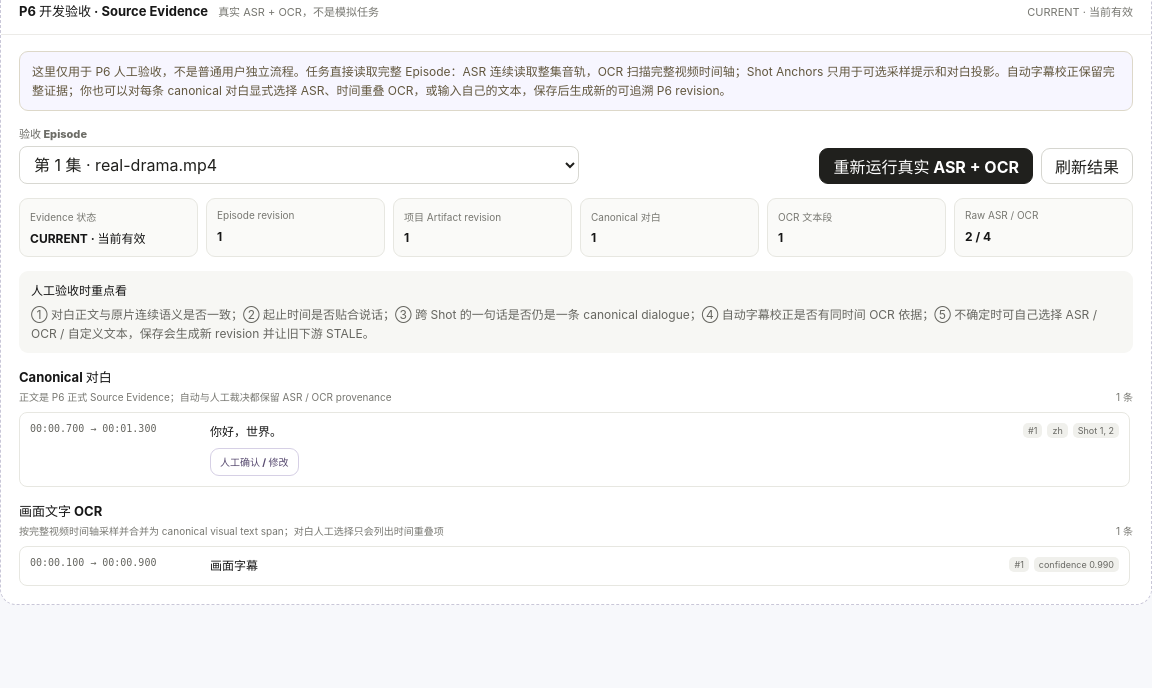
Test case: P6AcceptancePanel › lets the user explicitly choose or edit canonical dialogue and only saves on command
The width and height of the screenshot is (1152, 688).
Click the button "人工确认 / 修改".
click(254, 462)  # box [210,448,299,476]
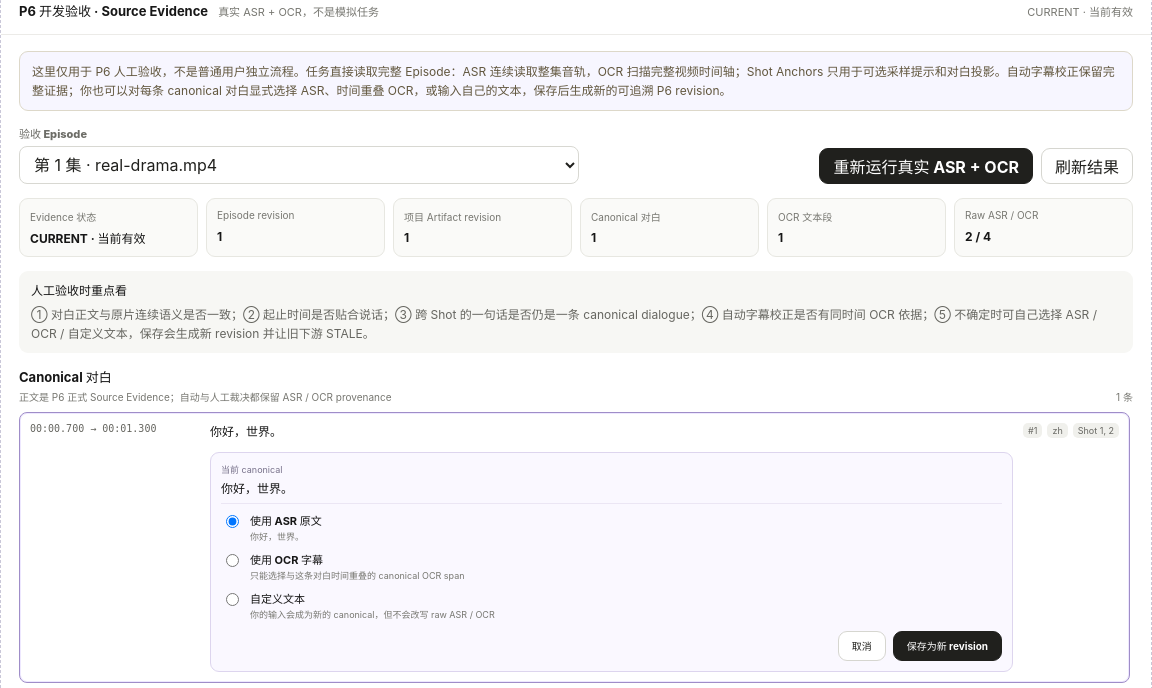
Expected: the text "自定义文本" is shown, [31,307,1097,341]
Expected: the text "使用 ASR 原文" is shown, [250,514,322,528]
Expected: the text "使用 OCR 字幕" is shown, [250,553,323,567]
Click the radio button labelled "自定义文本 你的输入会成为新的 canonical，但不会改写 raw ASR / OCR".
click(232, 599)  # box [226,593,239,606]
(page scrolled)
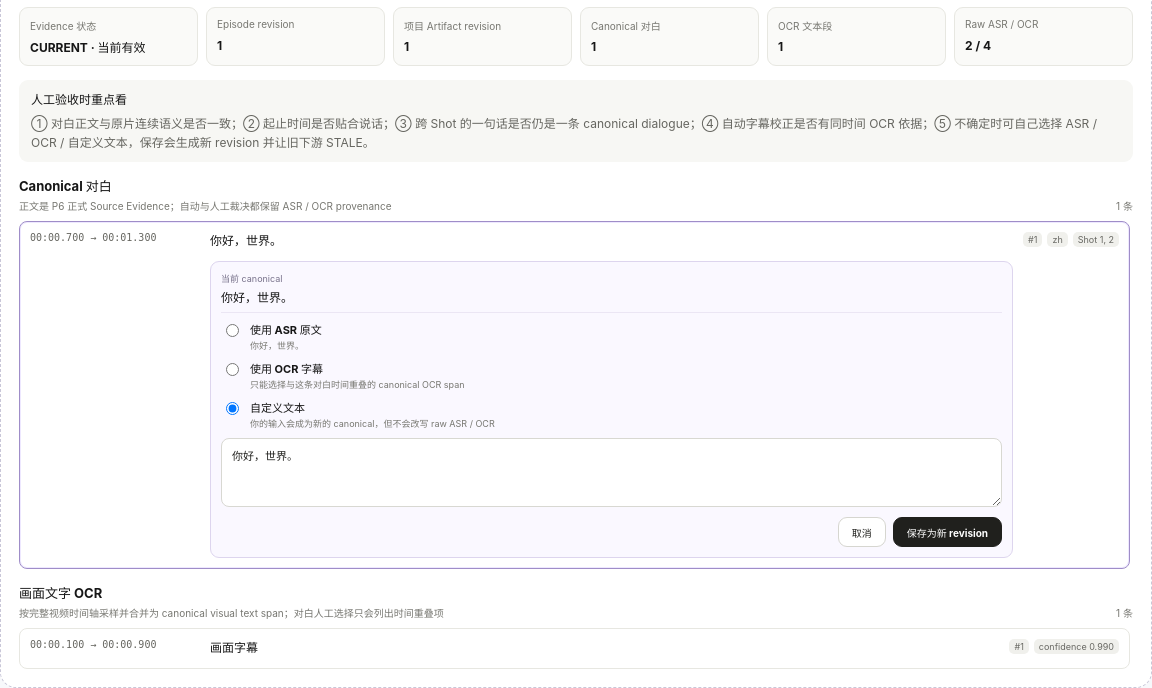
Replace the text in the text box with "人工确认后的台词" at (612, 472), box [221,438,1002,507]
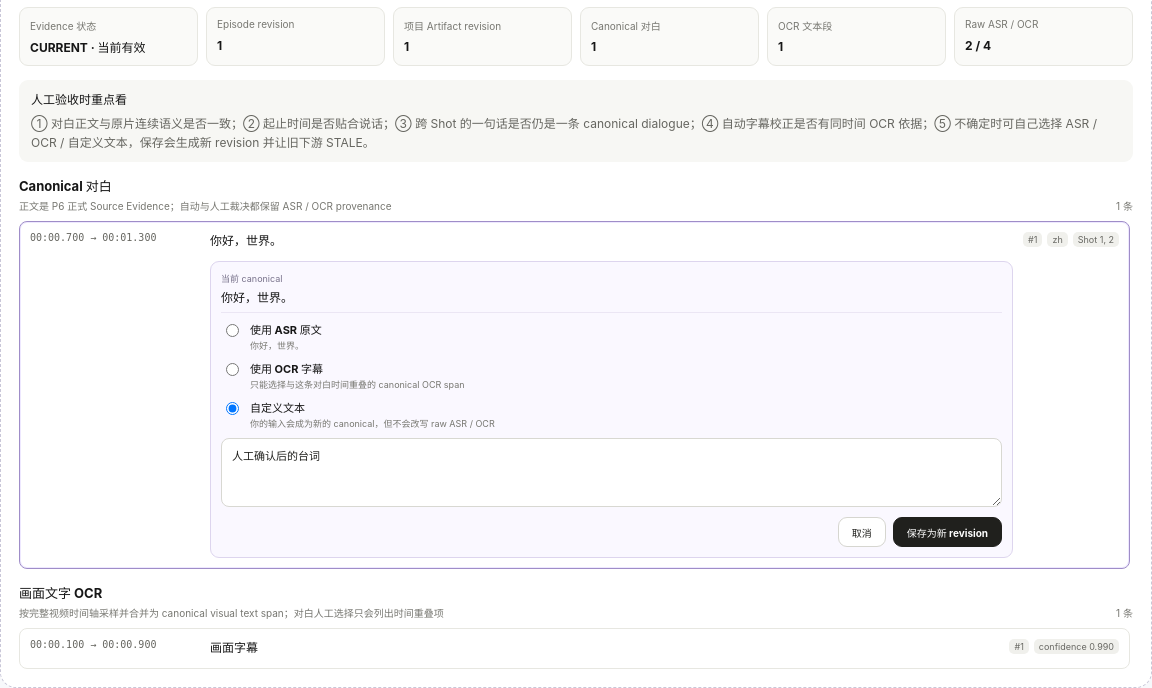
Expected: the button "保存为新 revision" is shown
Click the button "保存为新 revision".
click(947, 532)  # box [893,517,1002,547]
(page scrolled)
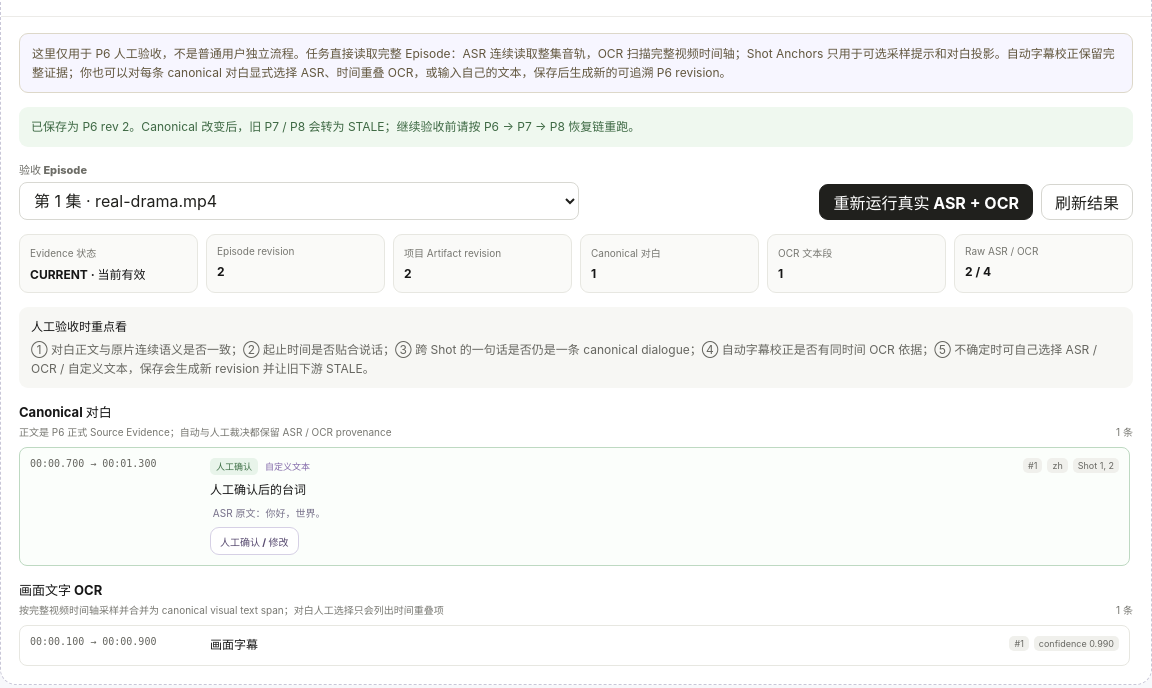
Expected: the text "人工确认后的台词" is shown, [210,482,306,497]
Expected: the text "人工确认" is shown, [210,458,258,475]
Expected: the text "已保存为 P6 rev 2" is shown, [31,119,640,134]
